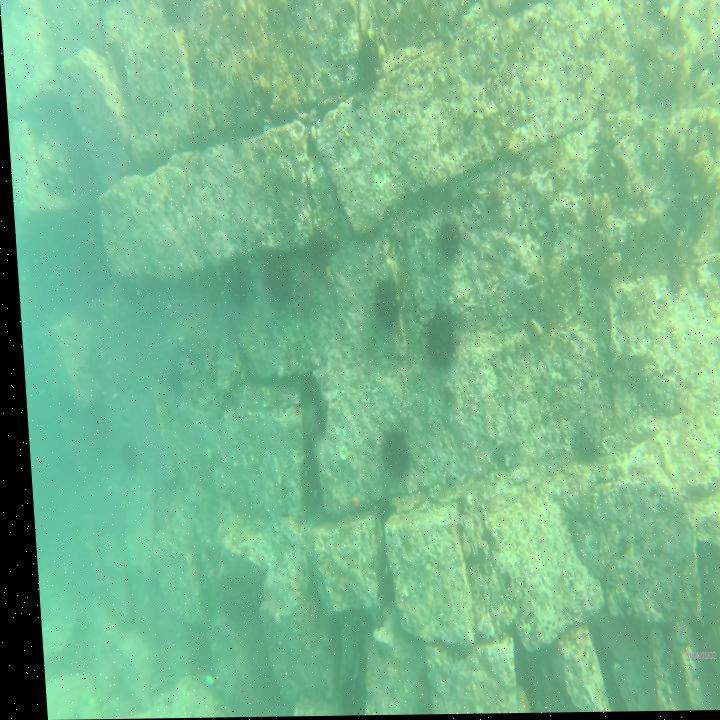echinus: (417, 303, 456, 370), (299, 223, 343, 280), (364, 277, 401, 330), (428, 216, 463, 266), (374, 430, 408, 480), (259, 246, 290, 299), (352, 36, 380, 87), (290, 264, 317, 316), (221, 261, 251, 307), (113, 443, 133, 473)
